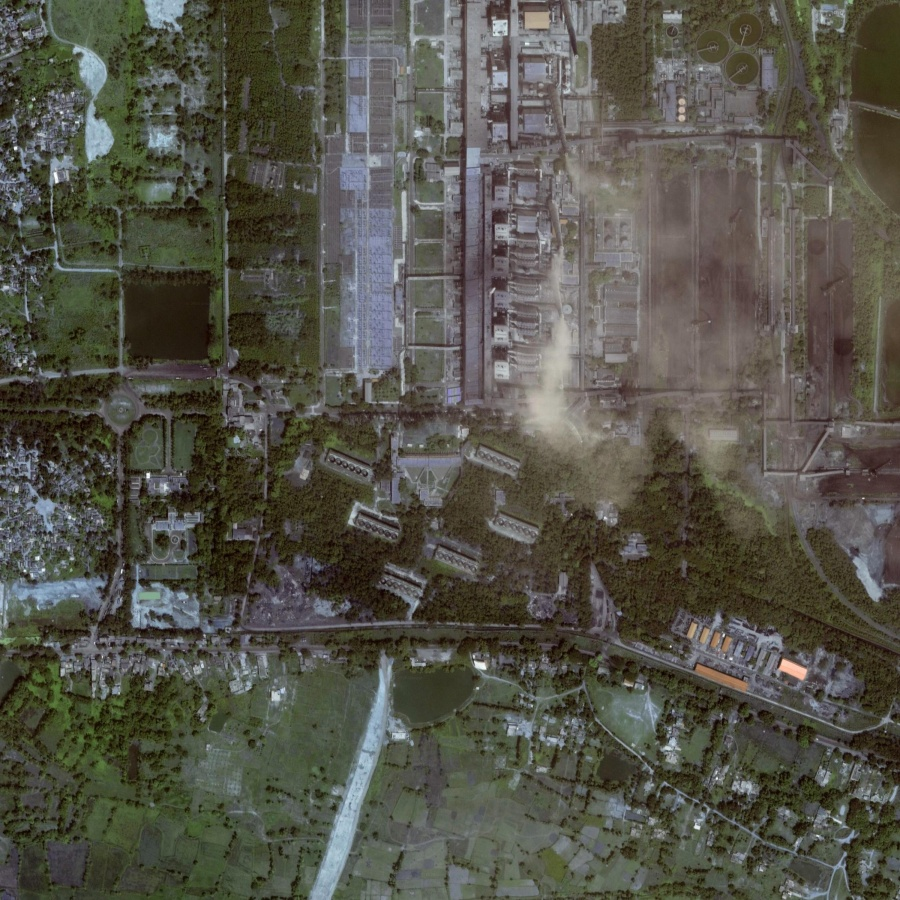PowerPlant: (535, 138, 866, 459)
